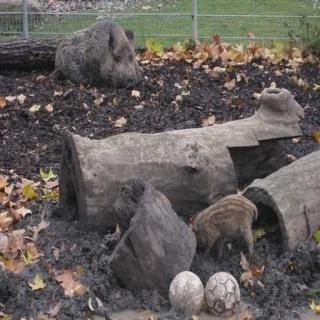Pig: (46, 22, 153, 90), (188, 194, 270, 255)
